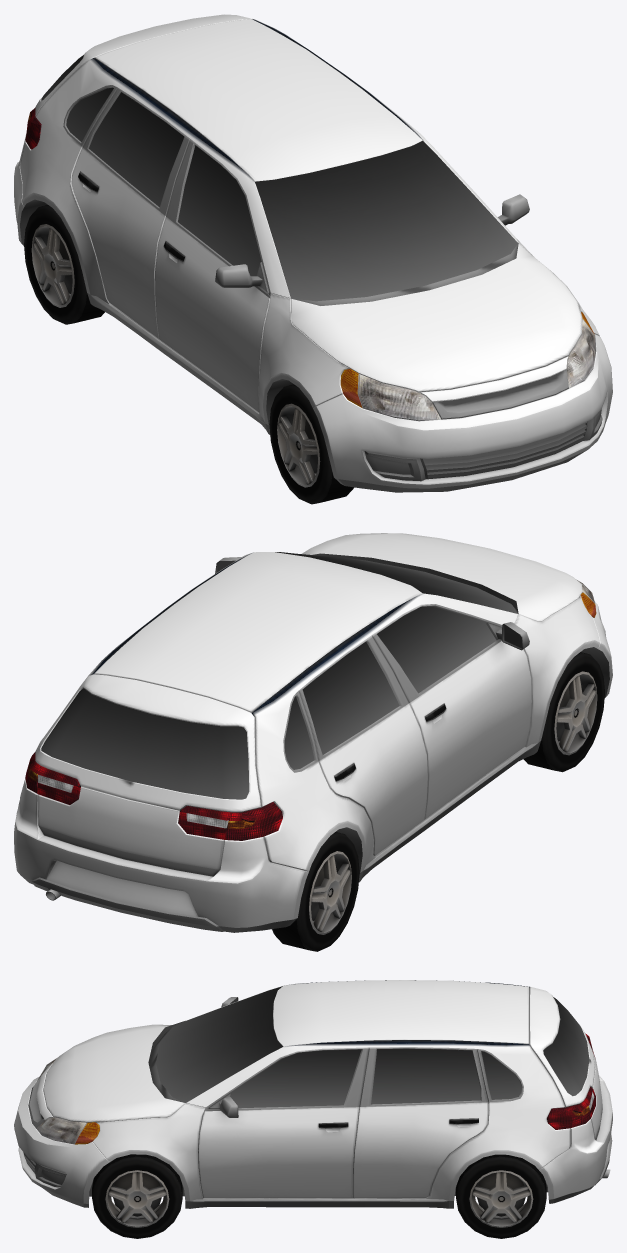
The model's file is SM_Car_01.fbx.
3 renders of one model, top to bottom at view 1: azimuth 30°, elevation 25°; view 2: azimuth 150°, elevation 25°; view 3: azimuth 270°, elevation 25°, orthographic. The views are drawn at different scales.
Parts seen in each view (by area): view 1: SM_Car_01_LOD0; view 2: SM_Car_01_LOD0; view 3: SM_Car_01_LOD0.
Part boxes in pixels (left/top/right/bottom): SM_Car_01_LOD0: left=14, top=14, right=612, bottom=504; SM_Car_01_LOD0: left=14, top=533, right=612, bottom=951; SM_Car_01_LOD0: left=14, top=980, right=612, bottom=1238.
Size of what is drawn, in the model's own units: 1.96 by 1.52 by 4.45.
